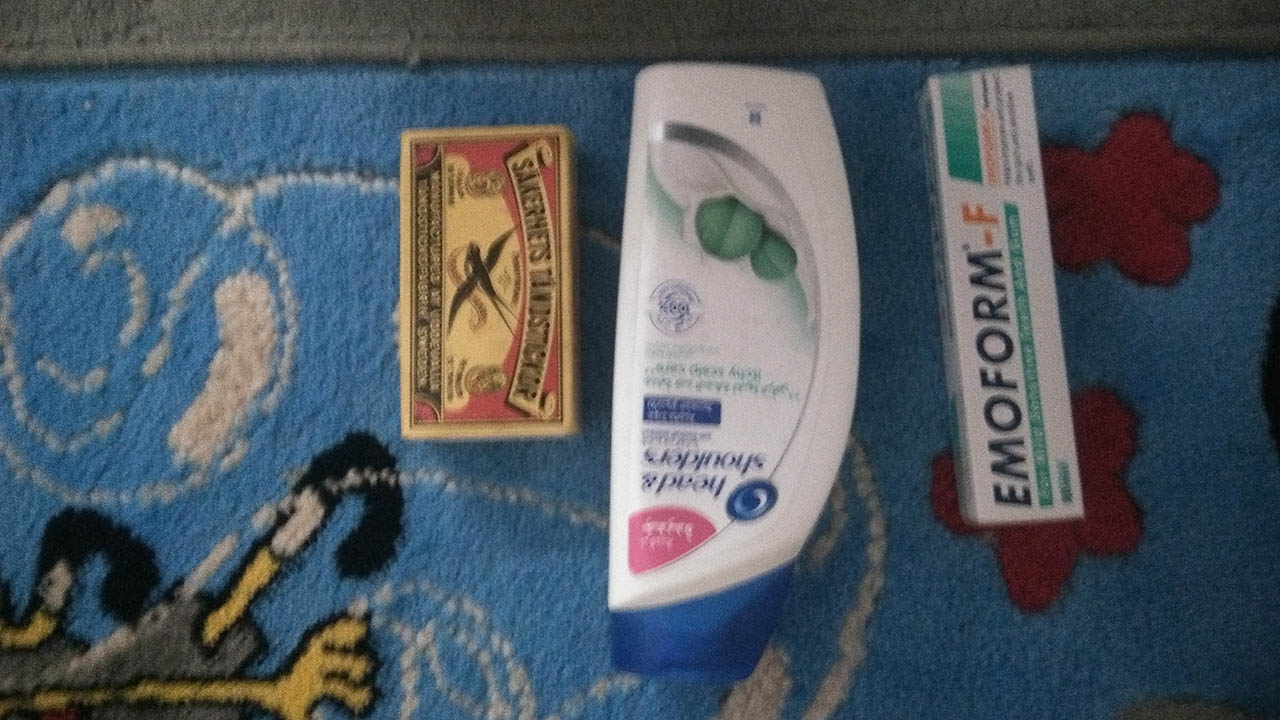Toothpaste-F 1.5$: (912, 57, 1099, 520)
match-sticks .90$: (386, 117, 586, 444)
shampoo-green 4.5$: (598, 63, 881, 685)
